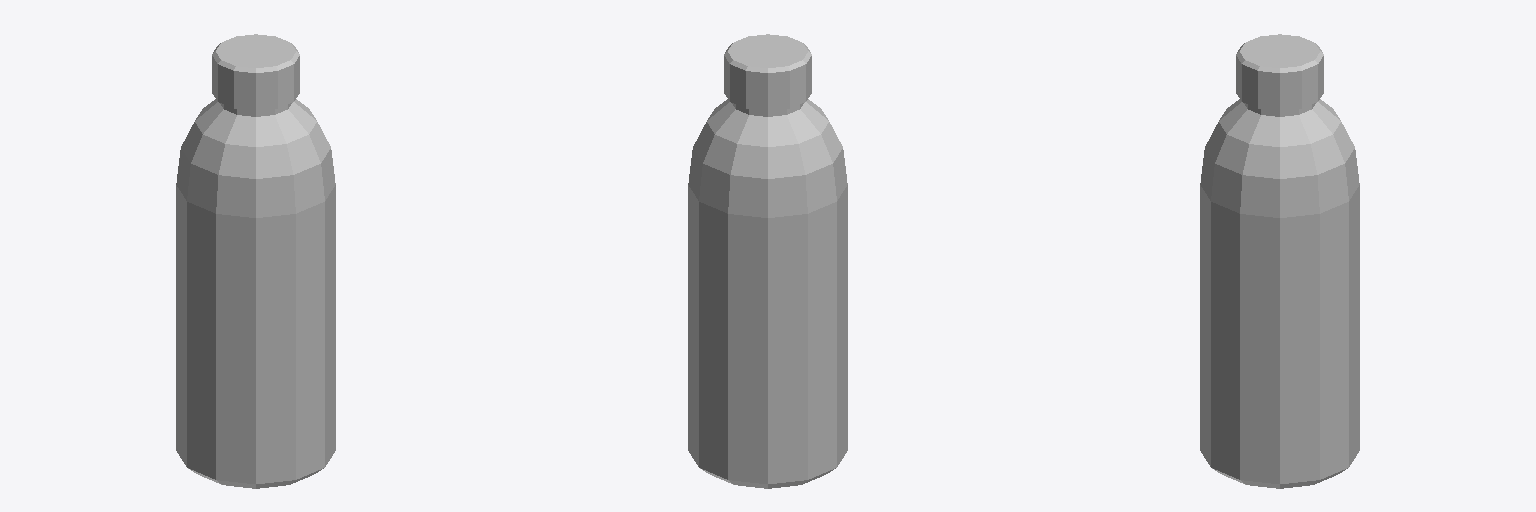
Rendered from Botella.obj.
The picture shows the model from 3 angles: view 1: azimuth 30°, elevation 25°; view 2: azimuth 150°, elevation 25°; view 3: azimuth 270°, elevation 25°; orthographic projection.
Visible parts, largest first — view 1: hypercasual_prop006; view 2: hypercasual_prop006; view 3: hypercasual_prop006.
Part boxes in pixels (left/top/right/bottom): hypercasual_prop006: left=176, top=34, right=335, bottom=488; hypercasual_prop006: left=688, top=34, right=847, bottom=488; hypercasual_prop006: left=1200, top=34, right=1359, bottom=488.
Bounding box in the file's own units: 0.6988 × 1.98 × 0.6988.